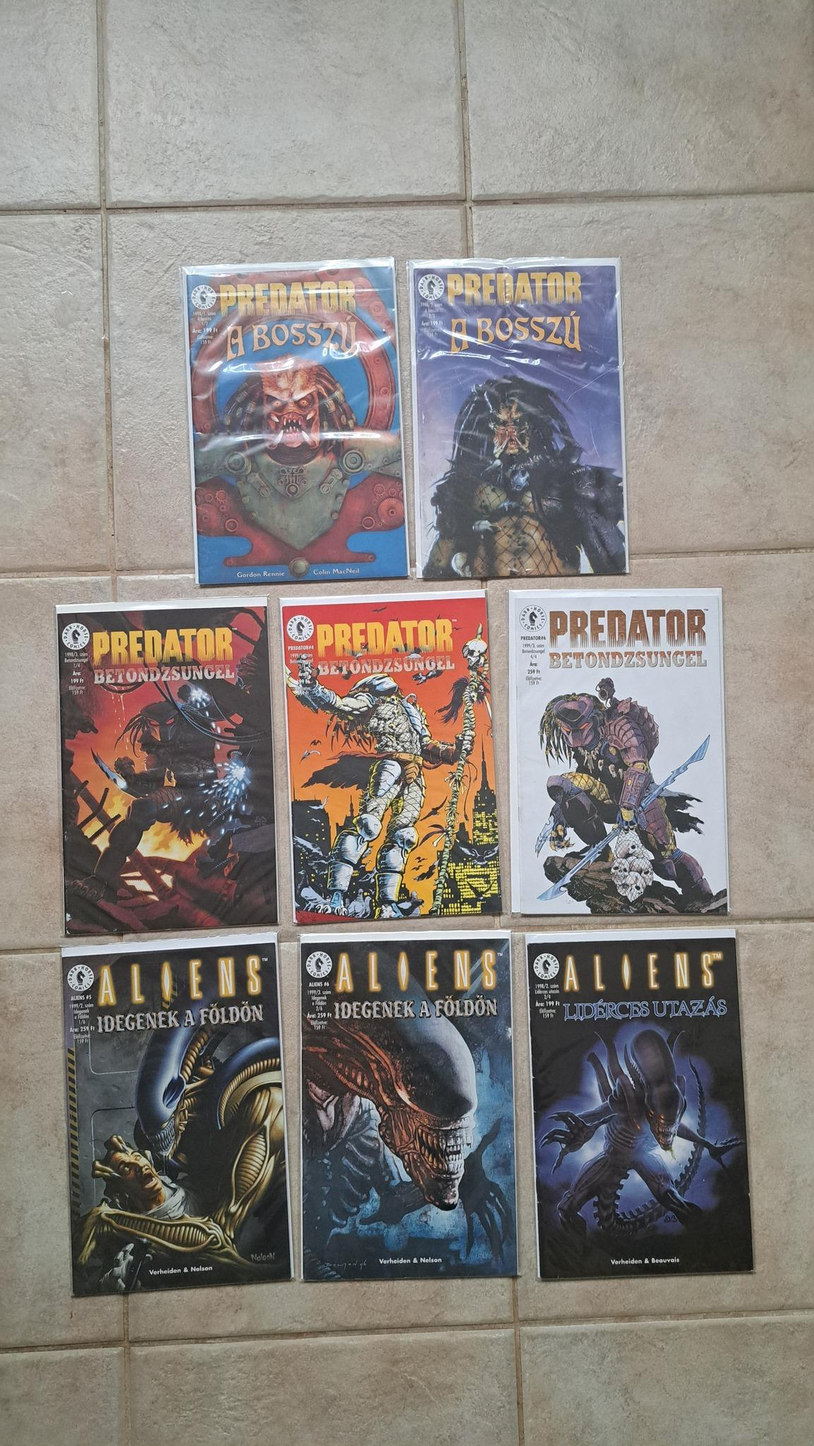comic: (63, 933, 291, 1295), (525, 926, 751, 1279), (297, 931, 515, 1280), (280, 587, 502, 923), (57, 598, 276, 935), (183, 258, 407, 586), (509, 588, 727, 916), (409, 256, 627, 579)
